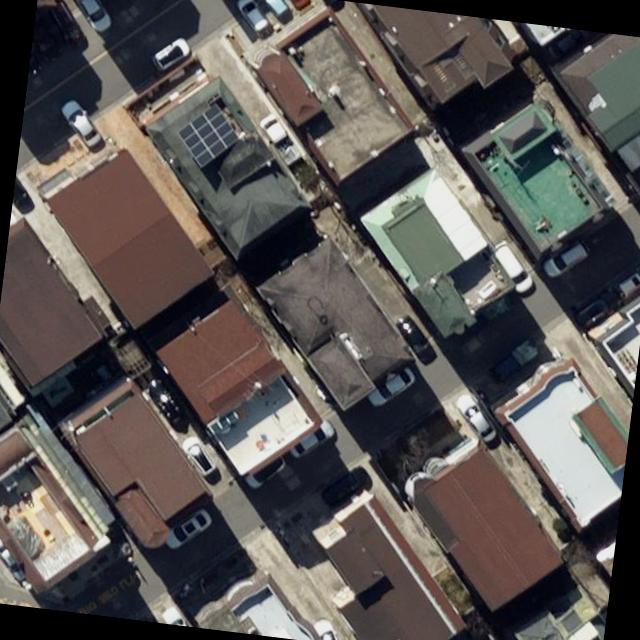solar: (170, 94, 246, 174)
